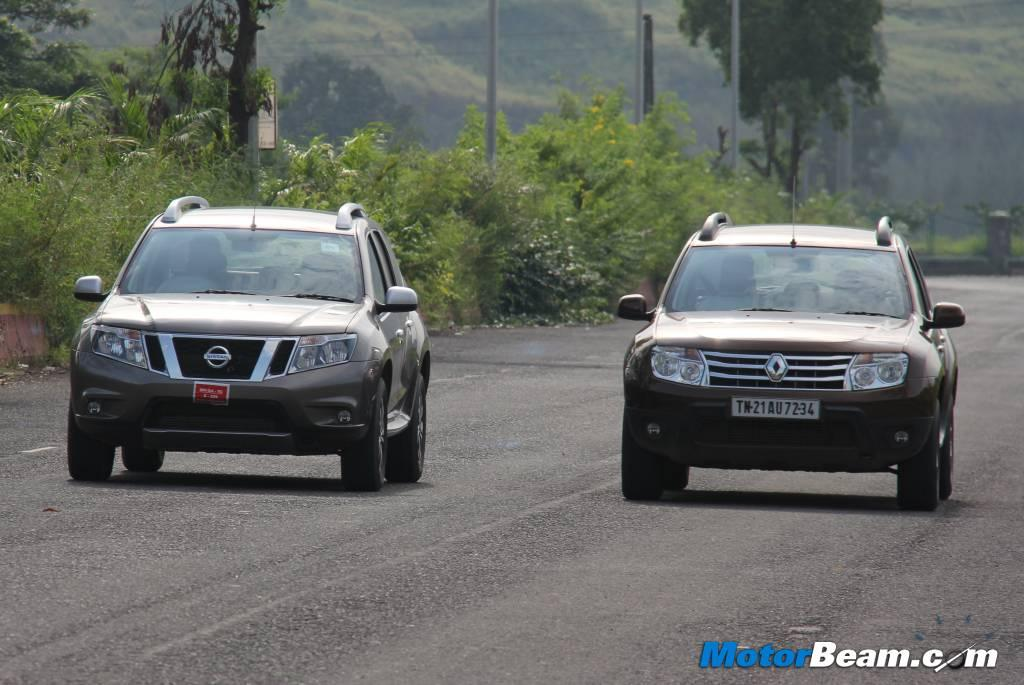licence-plate: (727, 395, 827, 420)
